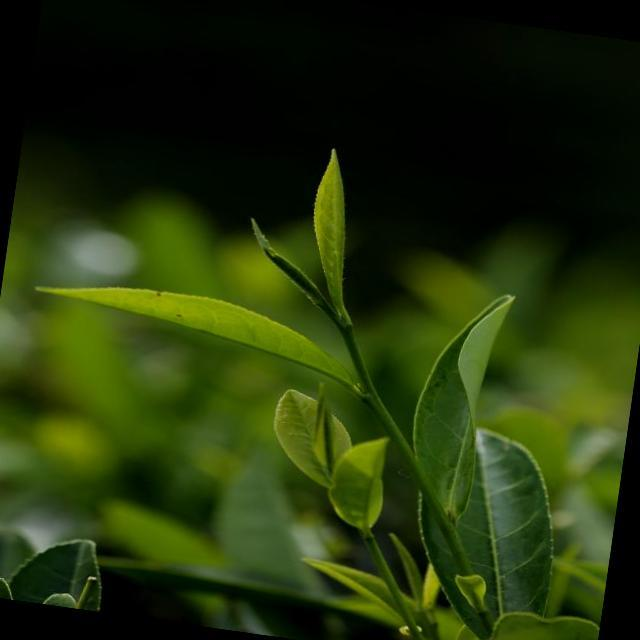Stem: (342, 327, 355, 340)
